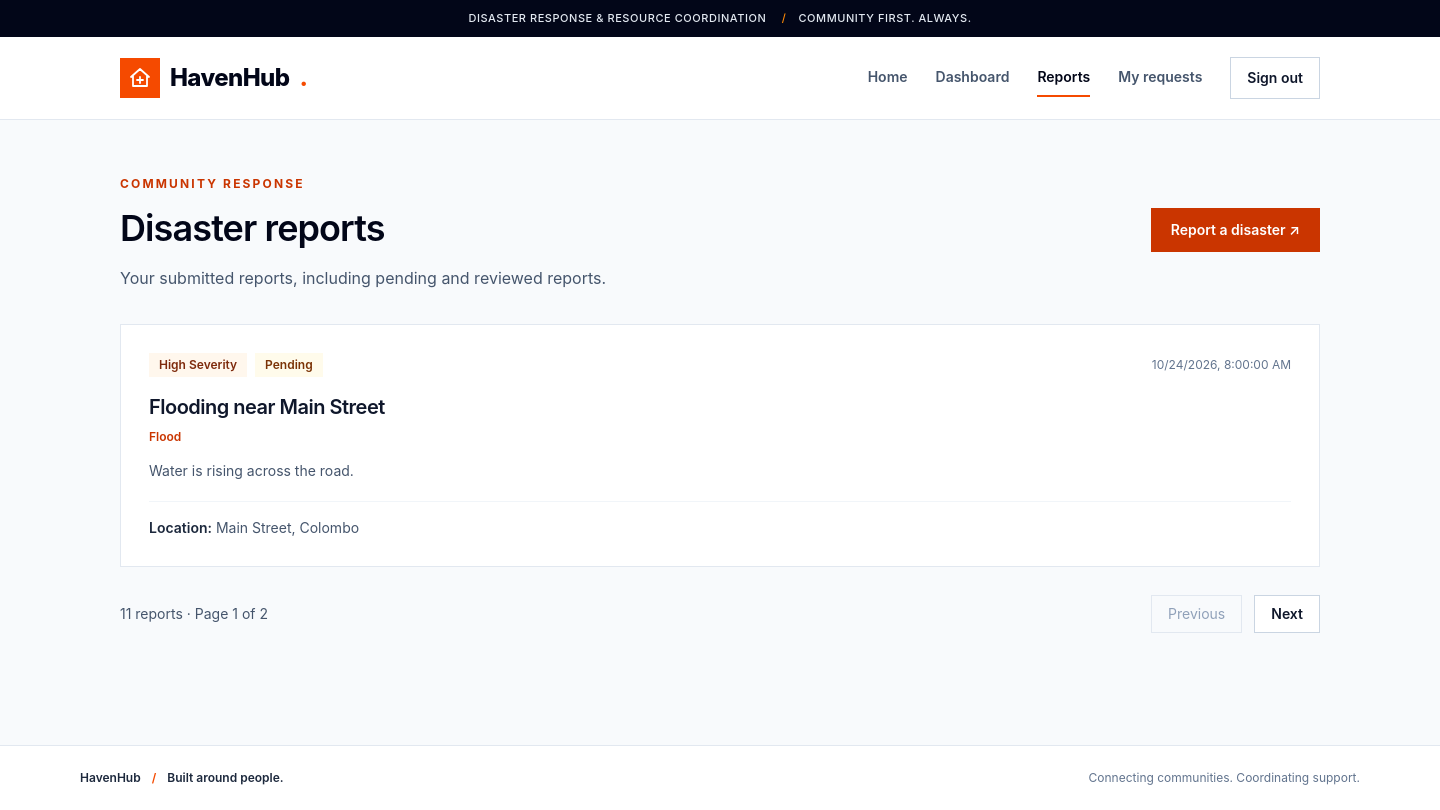
Scenario: loads another page through the API and removes the previous page contents
The width and height of the screenshot is (1440, 810).
Expected: the link "Flooding near Main Street" is shown, [149,394,385,418]
Click the link "Next" at [1287, 614], box [1254,594,1320,632]
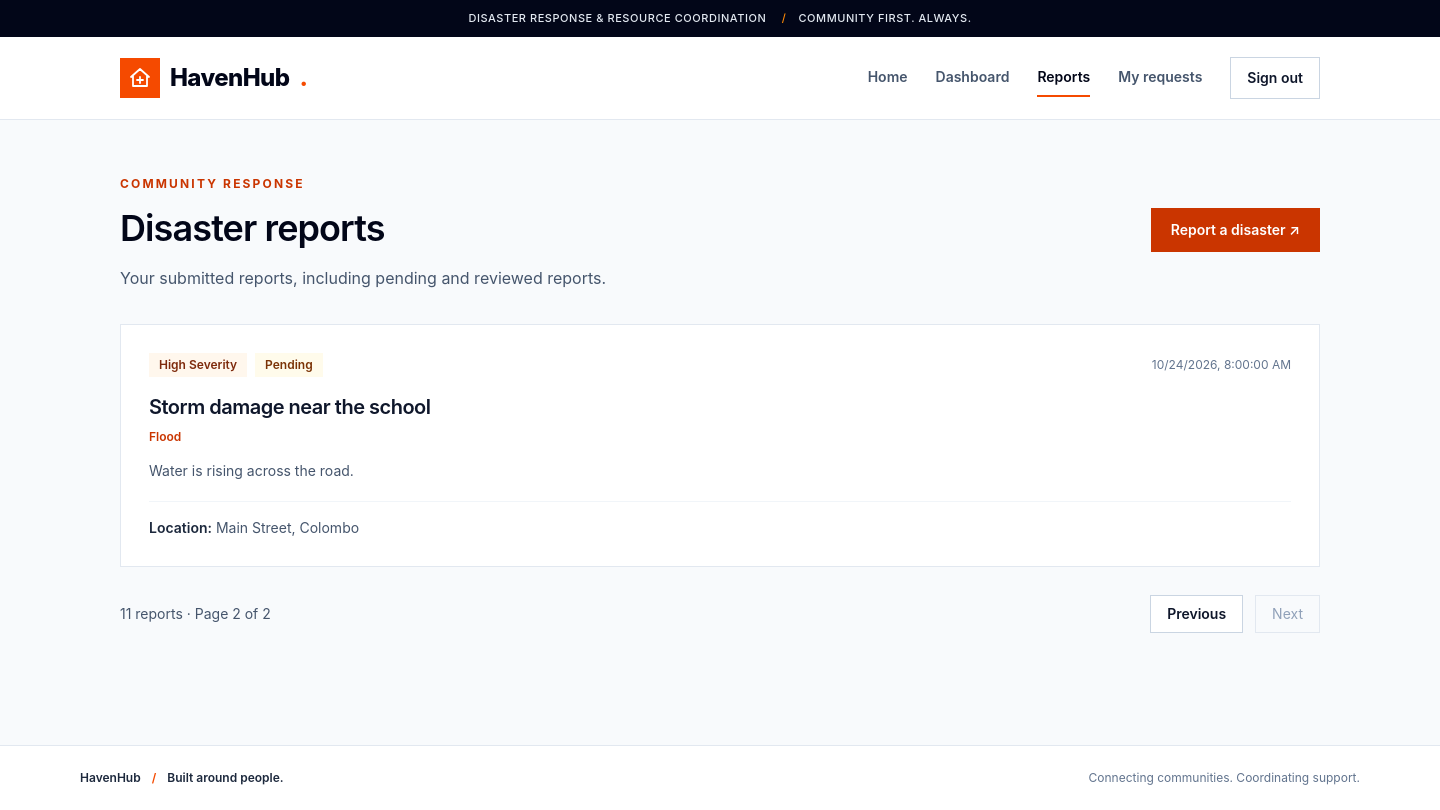
Expected: the link "Storm damage near the school" is shown, [149,394,430,418]
Expected: the link "Flooding near Main Street" is gone
